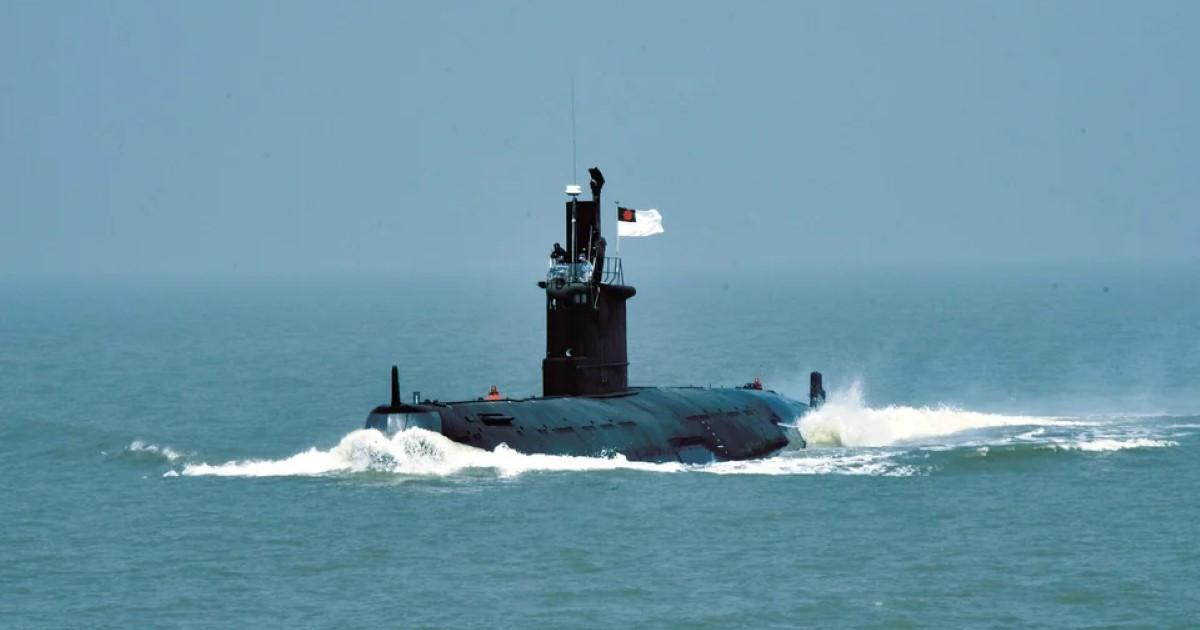Submarine: (198, 70, 988, 590)
